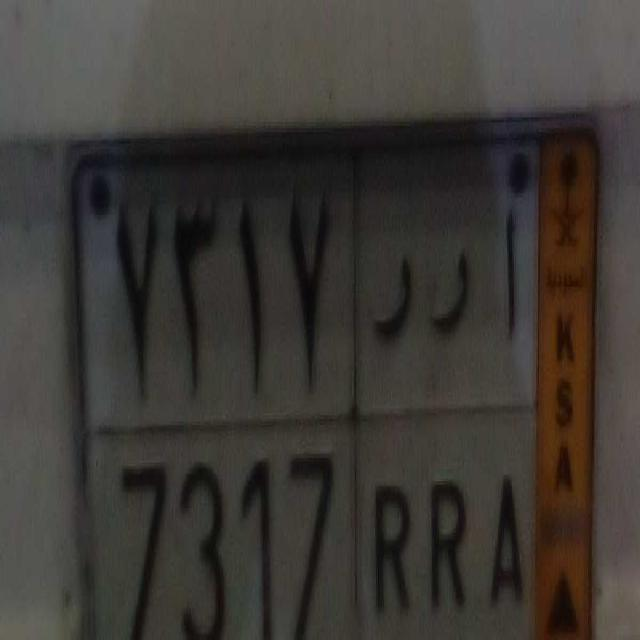license_plate: (81, 417, 539, 640)
